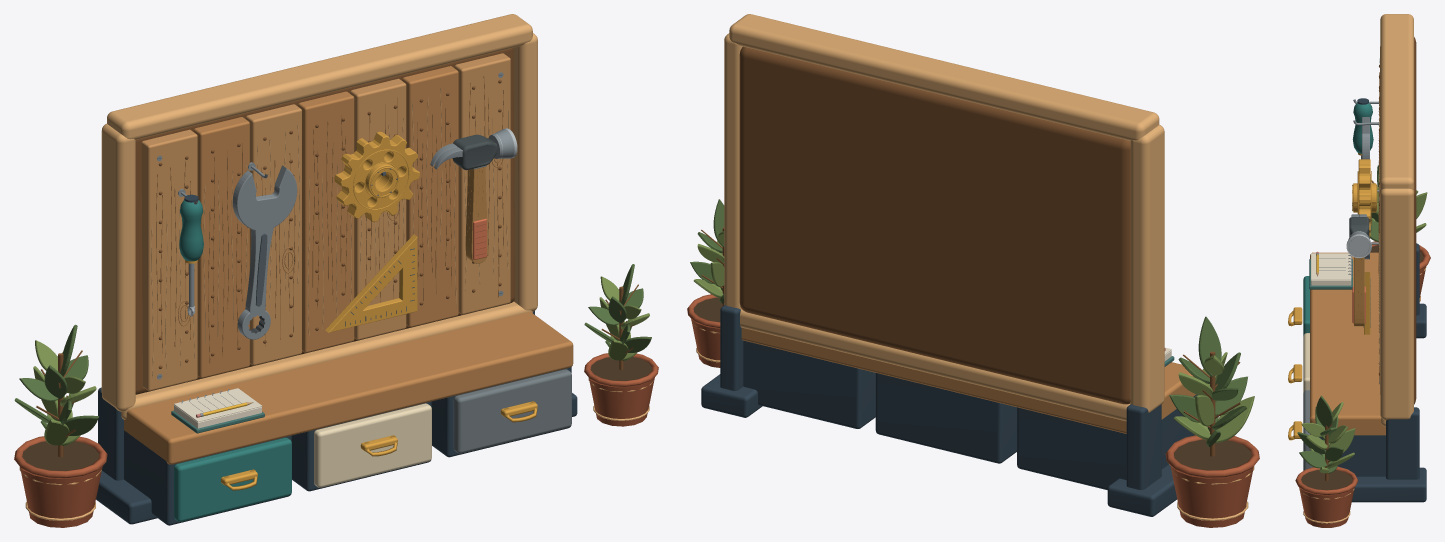
Rendered from workshop-tool-rack-final.glb.
The picture shows the model from 3 angles, left to right: view 1: azimuth 30°, elevation 25°; view 2: azimuth 150°, elevation 25°; view 3: azimuth 270°, elevation 25°; orthographic projection. The views are drawn at different scales.
Visible parts, largest first — view 1: timber, plank, Refined_Frame_Top, navy, Refined_Frame_Side_-069, Refined_Grey_Drawer, cream, teal, Refined_Frame_Side_069, grain, Refined_Frame_Bottom, brass_1 (+13 smaller); view 2: darkWood, navy, Refined_Frame_Top, Refined_Frame_Side_-069, Refined_Frame_Bottom, timber, pot, Refined_Frame_Side_069, soil, pot_1, Leaf 8, Leaf 1; view 3: timber, Refined_Frame_Side_069, navy, Refined_Frame_Top, pot_1, brass_1, darkWood, Refined_Notebook_Top, soil_1, Wood_Handle, Refined_Original_Yellow_Handles, Teal_Handle (+20 smaller).
Boxes of the visible parts, bbox=[...] form: timber: bbox=[124, 66, 573, 464]; plank: bbox=[141, 53, 510, 390]; Refined_Frame_Top: bbox=[107, 14, 532, 139]; navy: bbox=[96, 311, 577, 525]; Refined_Frame_Side_-069: bbox=[101, 123, 135, 411]; Refined_Grey_Drawer: bbox=[453, 369, 571, 453]; cream: bbox=[314, 403, 431, 487]; teal: bbox=[174, 437, 291, 521]; Refined_Frame_Side_069: bbox=[513, 33, 537, 311]; grain: bbox=[156, 76, 503, 363]; Refined_Frame_Bottom: bbox=[121, 301, 532, 419]; brass_1: bbox=[334, 131, 419, 221]; darkWood: bbox=[739, 46, 1130, 404]; navy: bbox=[701, 305, 1197, 516]; Refined_Frame_Top: bbox=[729, 14, 1159, 140]; Refined_Frame_Side_-069: bbox=[1130, 125, 1164, 412]; Refined_Frame_Bottom: bbox=[740, 309, 1130, 421]; timber: bbox=[741, 327, 1195, 433]; pot: bbox=[1165, 435, 1259, 527]; Refined_Frame_Side_069: bbox=[724, 33, 742, 309]; soil: bbox=[1173, 439, 1251, 470]; pot_1: bbox=[687, 294, 720, 367]; Leaf 8: bbox=[1198, 316, 1221, 376]; Leaf 1: bbox=[1215, 396, 1254, 442]; timber: bbox=[1310, 68, 1385, 435]; Refined_Frame_Side_069: bbox=[1380, 188, 1413, 420]; navy: bbox=[1313, 243, 1426, 502]; Refined_Frame_Top: bbox=[1380, 14, 1413, 189]; pot_1: bbox=[1295, 466, 1358, 527]; brass_1: bbox=[1352, 159, 1377, 236]; darkWood: bbox=[1414, 37, 1416, 404]; Refined_Notebook_Top: bbox=[1311, 253, 1351, 280]; soil_1: bbox=[1301, 470, 1352, 489]; Wood_Handle: bbox=[1354, 257, 1364, 326]; Refined_Original_Yellow_Handles: bbox=[1288, 307, 1302, 440]; Teal_Handle: bbox=[1352, 103, 1373, 153].
Bounding box in the file's own units: 2.04 × 1.25 × 0.5082.
